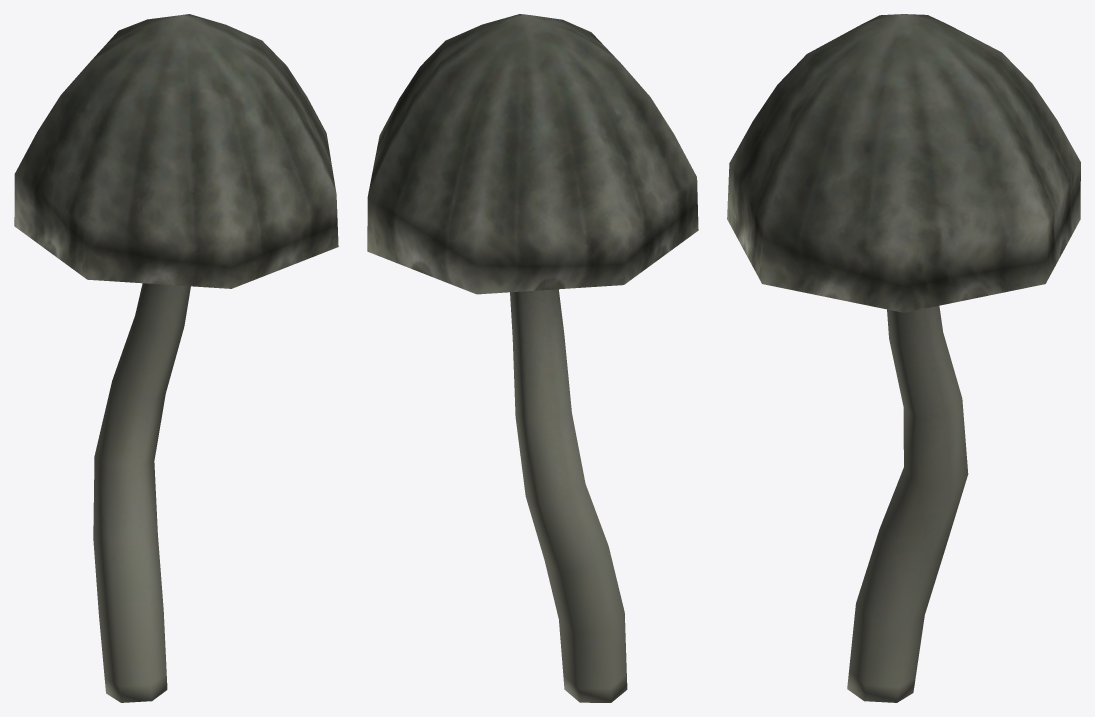
Rendered from cave_mushroom_single_01.dae.
The picture shows the model from 3 angles, left to right: view 1: azimuth 30°, elevation 25°; view 2: azimuth 150°, elevation 25°; view 3: azimuth 270°, elevation 25°; orthographic projection. The views are drawn at different scales.
Visible parts, largest first — view 1: 01; view 2: 01; view 3: 01.
Boxes of the visible parts, box(x1,y1,x2,y2) form: 01: box(14, 14, 338, 702); 01: box(367, 14, 698, 702); 01: box(727, 14, 1080, 702).
Bounding box in the file's own units: 0.117 × 0.2653 × 0.1201.
